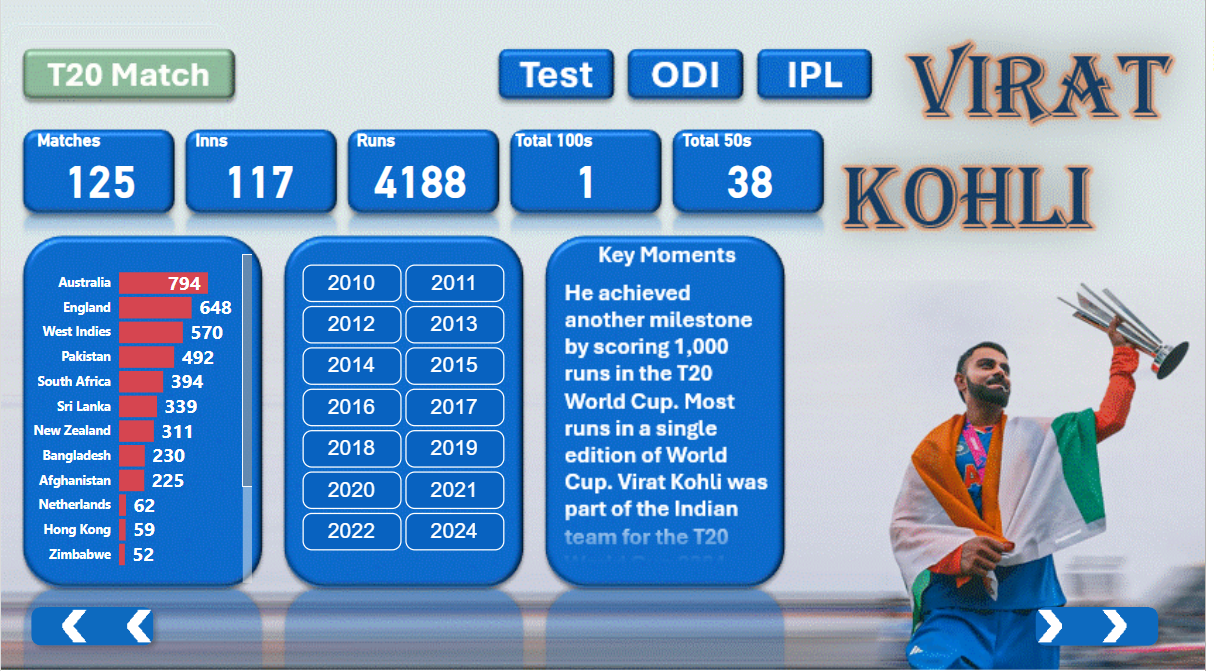

What the dashboard file says about the page in this screenshot:
{"tool":"powerbi","page":{"name":"T20 Match","canvas":[1280,720],"ordinal":7},"visuals":[{"type":"clusteredBarChart","fields":{"Category":["T20.Opposition"],"Y":["Sum(T20.Runs)"]},"box":[33.4,268.4,233.6,357.9],"z":0},{"type":"actionButton","box":[23.3,642.6,148,59],"z":1000},{"type":"actionButton","box":[1090.4,643,148.6,59.1],"z":2000},{"type":"cardVisual","title":"Matches","fields":{"Data":["Count(T20.Date)"]},"box":[33.4,144.1,145.6,88],"z":3000},{"type":"cardVisual","title":"Inns","fields":{"Data":["Sum(T20.Inns)"]},"box":[201.7,144.1,145.6,88],"z":4000},{"type":"cardVisual","title":"Runs","fields":{"Data":["Sum(T20.Runs)"]},"box":[373.1,144.1,145.6,88],"z":5000},{"type":"cardVisual","title":"Total 100s","fields":{"Data":["Sum(T20.100s)"]},"box":[541.4,144.1,162.3,88],"z":6000},{"type":"cardVisual","title":"Total 50s","fields":{"Data":["Sum(T20.50s)"]},"box":[718.9,144.1,154.7,88],"z":7000},{"type":"actionButton","box":[526.3,53.1,127.4,62.2],"z":8000},{"type":"actionButton","box":[668.8,53.1,116.8,62.2],"z":9000},{"type":"actionButton","box":[805.3,53.1,116.8,62.2],"z":10000},{"type":"ChicletSlicer1448559807354","fields":{"Category":["T20.Year"]},"box":[312.4,279.1,229,324.5],"z":11000}]}

Visuals, with their boxes in screenshot pixels (x1, y1, x2, y2), scaled from the page's 1280x720 canvas onto the 1214x671 screenshot:
clusteredBarChart - T20.Opposition x Sum(T20.Runs): (32, 250, 253, 584)
actionButton: (22, 599, 162, 654)
actionButton: (1034, 599, 1175, 654)
"Matches" cardVisual: (32, 134, 170, 216)
"Inns" cardVisual: (191, 134, 329, 216)
"Runs" cardVisual: (354, 134, 492, 216)
"Total 100s" cardVisual: (513, 134, 667, 216)
"Total 50s" cardVisual: (682, 134, 829, 216)
actionButton: (499, 49, 620, 107)
actionButton: (634, 49, 745, 107)
actionButton: (764, 49, 875, 107)
ChicletSlicer1448559807354 - T20.Year: (296, 260, 513, 563)
